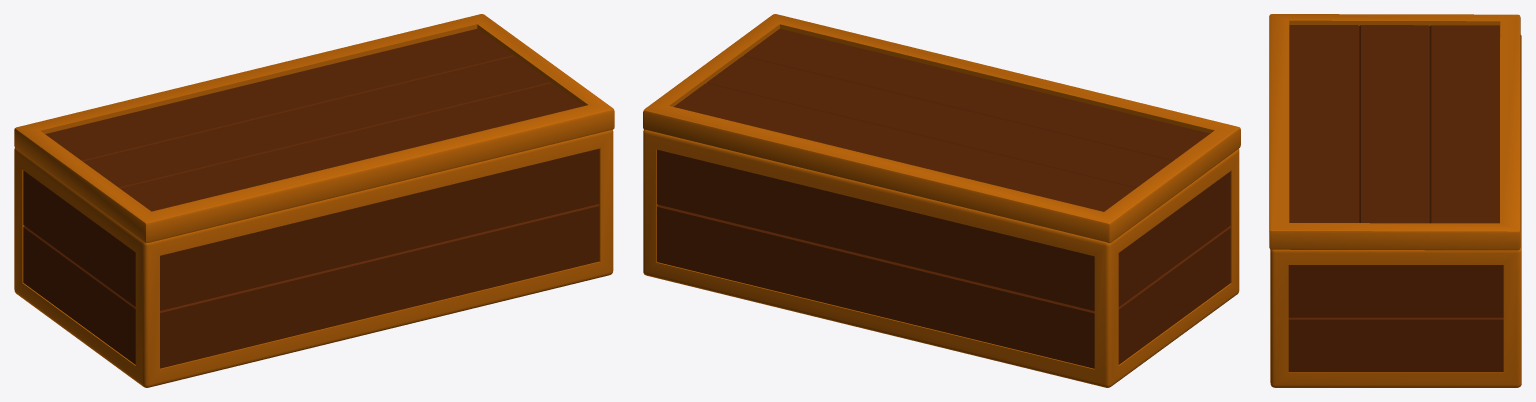
The model's file is KASA-KAPALI.fbx.
3 views of the same model, side by side, from view 1: azimuth 30°, elevation 25°; view 2: azimuth 150°, elevation 25°; view 3: azimuth 270°, elevation 25° (orthographic). The views are drawn at different scales.
Visible parts, largest first — view 1: KASA-YARIM-ACIK001; view 2: KASA-YARIM-ACIK001; view 3: KASA-YARIM-ACIK001.
Part boxes in pixels (x1,y1,x2,y2): KASA-YARIM-ACIK001: [14, 14, 614, 387]; KASA-YARIM-ACIK001: [643, 14, 1240, 387]; KASA-YARIM-ACIK001: [1269, 14, 1521, 387].
Size of the model in its own units: 79.43 by 27.05 by 39.
